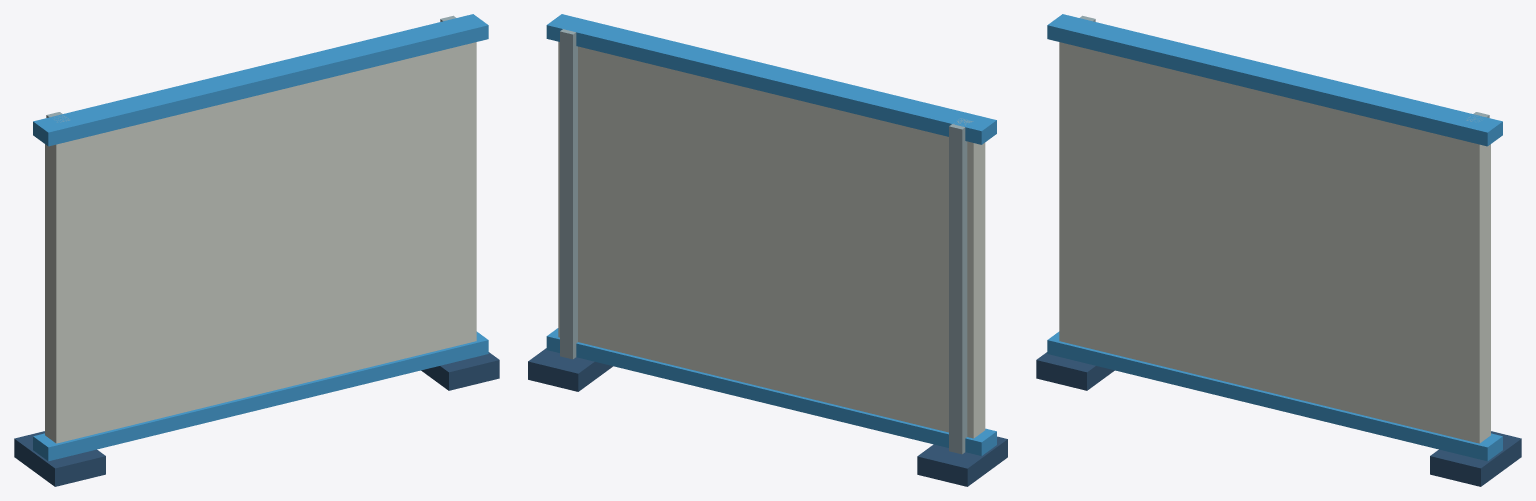
File: modular-sight-screen.glb
The picture shows the model from 3 angles, left to right: view 1: azimuth 30°, elevation 25°; view 2: azimuth 150°, elevation 25°; view 3: azimuth 330°, elevation 25°; orthographic projection.
Parts seen in each view (by area): view 1: Sight screen | panel, Sight screen | top rail, Sight screen | bottom rail, Sight screen | foot, Sight screen | foot.001; view 2: Sight screen | panel, Sight screen | top rail, Sight screen | bottom rail, Sight screen | support post, Sight screen | support post.001, Sight screen | foot, Sight screen | foot.001; view 3: Sight screen | panel, Sight screen | top rail, Sight screen | bottom rail, Sight screen | foot.001, Sight screen | foot.
Boxes of the visible parts, bbox=[...] form: Sight screen | panel: bbox=[45, 42, 476, 443]; Sight screen | top rail: bbox=[33, 14, 488, 146]; Sight screen | bottom rail: bbox=[33, 331, 488, 461]; Sight screen | foot: bbox=[14, 431, 105, 486]; Sight screen | foot.001: bbox=[421, 352, 499, 390]; Sight screen | panel: bbox=[558, 41, 985, 438]; Sight screen | top rail: bbox=[546, 14, 996, 144]; Sight screen | bottom rail: bbox=[546, 328, 996, 455]; Sight screen | support post: bbox=[949, 118, 973, 454]; Sight screen | support post.001: bbox=[560, 29, 577, 359]; Sight screen | foot: bbox=[917, 436, 1007, 486]; Sight screen | foot.001: bbox=[528, 348, 612, 391]; Sight screen | panel: bbox=[1059, 42, 1490, 443]; Sight screen | top rail: bbox=[1047, 14, 1502, 146]; Sight screen | bottom rail: bbox=[1047, 331, 1502, 461]; Sight screen | foot.001: bbox=[1430, 431, 1521, 486]; Sight screen | foot: bbox=[1036, 352, 1114, 390].
Bounding box in the file's own units: 4.02 × 3 × 0.64.
